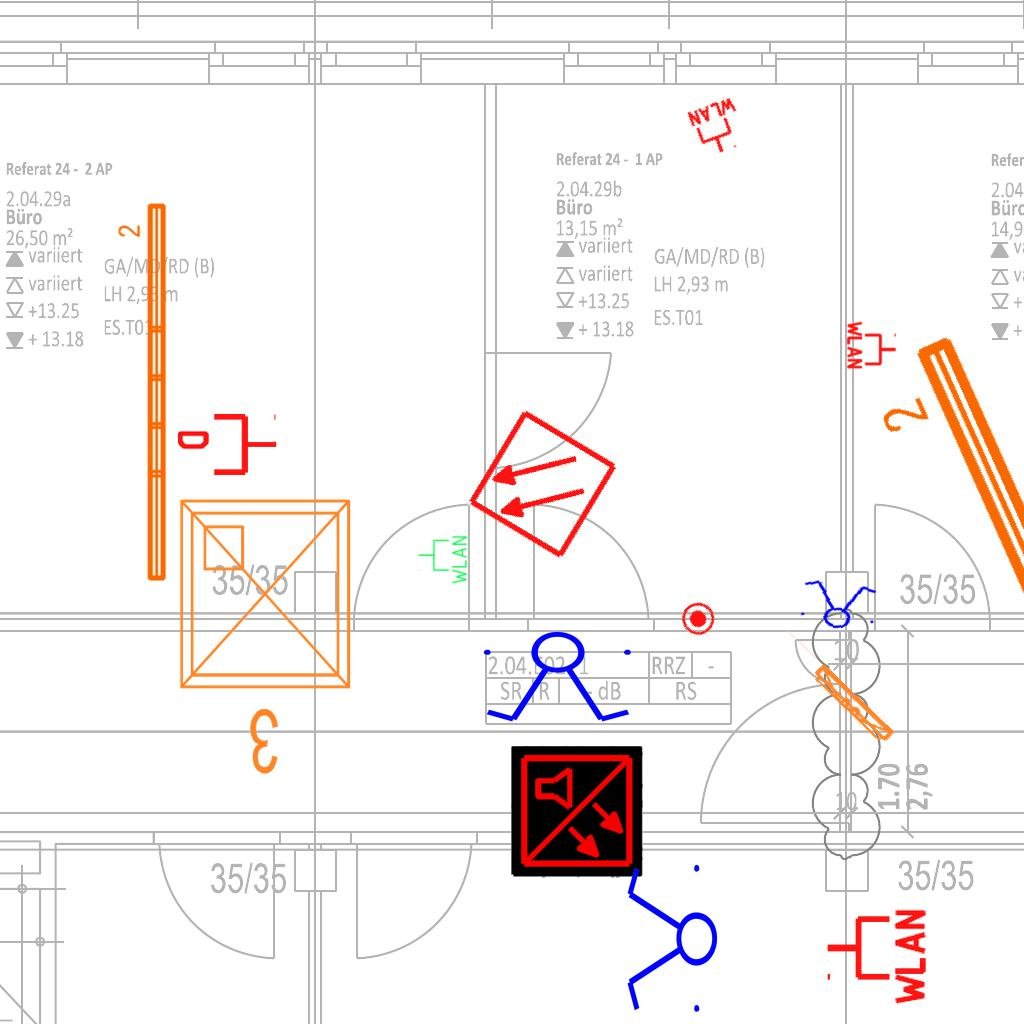Ambulanz_Pendelleuchte_LED: (854, 322, 1024, 1024), (116, 199, 172, 586)
Datenanschluss_einfach: (178, 410, 278, 479)
Einbaudownlights_LED_Konferenzraeume: (165, 485, 373, 785)
OKW_Multisensormelder_(Kombination_optischer_Rauch-Kahlenmonoxid_Waerme-Melder): (511, 746, 643, 878)
RMO_Rauchmelder_optischer: (464, 406, 621, 563)
Serienschalter: (623, 856, 719, 1024), (475, 630, 643, 726), (793, 576, 883, 634)
Sicherheitsleuchte_Wandeinbau: (768, 623, 901, 752)
Taster: (675, 596, 722, 643)
WLAN: (823, 905, 928, 1009), (684, 94, 752, 162), (417, 534, 469, 586), (846, 319, 898, 371)
